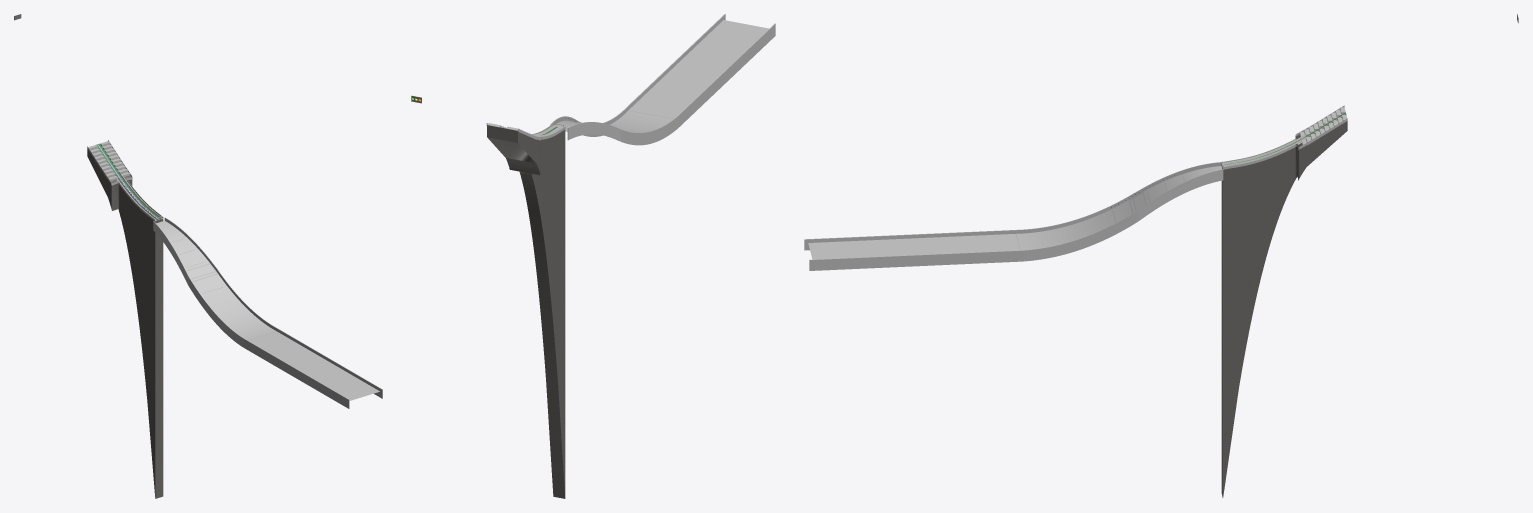
File: Hill3.fbx
3 renders of one model, left to right at view 1: azimuth 30°, elevation 25°; view 2: azimuth 150°, elevation 25°; view 3: azimuth 270°, elevation 25°, orthographic. The views are drawn at different scales.
Parts seen in each view (by area): view 1: Inrun_Construction, Landing_Area, Landing_Area_Guardrail_L, Landing_Area_Guardrail_R; view 2: Inrun_Construction, Landing_Area, Landing_Area_Guardrail_L, Landing_Area_Guardrail_R; view 3: Inrun_Construction, Landing_Area, Landing_Area_Guardrail_R, Landing_Area_Guardrail_L.
Part boxes in pixels (left/top/right/bottom): Inrun_Construction: left=87, top=148, right=163, bottom=498; Landing_Area: left=156, top=220, right=379, bottom=400; Landing_Area_Guardrail_L: left=153, top=221, right=349, bottom=408; Landing_Area_Guardrail_R: left=164, top=217, right=382, bottom=398; Inrun_Construction: left=487, top=125, right=565, bottom=498; Landing_Area: left=556, top=20, right=768, bottom=132; Landing_Area_Guardrail_L: left=567, top=23, right=775, bottom=145; Landing_Area_Guardrail_R: left=550, top=14, right=725, bottom=136; Inrun_Construction: left=1221, top=121, right=1347, bottom=497; Landing_Area: left=808, top=166, right=1222, bottom=259; Landing_Area_Guardrail_R: left=809, top=169, right=1223, bottom=270; Landing_Area_Guardrail_L: left=804, top=162, right=1221, bottom=250.
Size of the model in its own units: 2425 by 12939 by 17816.
